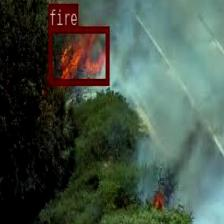fire: (48, 26, 109, 84)
